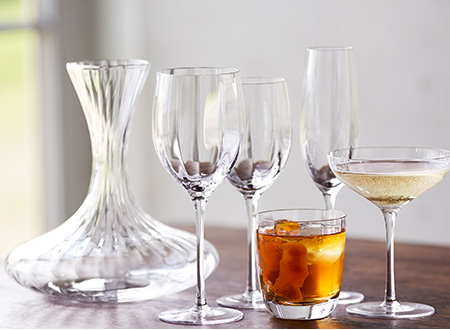Nonrec_Glass: (11, 47, 224, 302), (138, 57, 253, 326), (327, 129, 450, 320), (287, 38, 376, 296), (212, 60, 296, 314), (243, 205, 352, 320)
